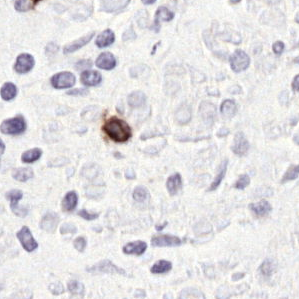Lymphocyte: (99, 117, 135, 145)
